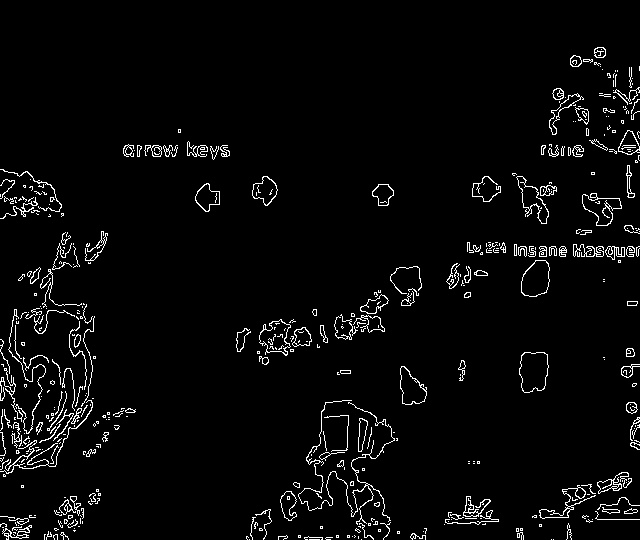left: (187, 179, 226, 218)
right: (245, 171, 291, 212), (461, 171, 507, 209)
up: (361, 174, 404, 218)
